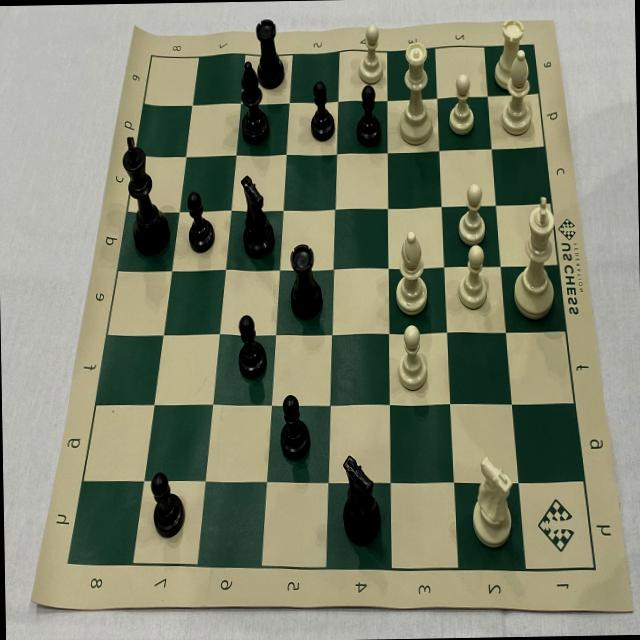black-bishop: (236, 55, 270, 147)
black-king: (118, 126, 173, 262)
black-knight: (336, 444, 382, 550), (234, 165, 278, 264)
black-pawn: (272, 387, 314, 468), (147, 460, 187, 540), (233, 302, 270, 384), (182, 182, 220, 257), (303, 77, 340, 146), (353, 80, 387, 148)
black-rook: (282, 229, 330, 330), (249, 9, 290, 93)
white-bishop: (388, 222, 434, 322), (494, 40, 536, 144)
white-king: (506, 191, 568, 324)
white-knight: (464, 450, 520, 554)
white-pawn: (391, 316, 434, 396), (454, 240, 493, 316), (442, 66, 479, 140), (352, 17, 390, 88), (456, 176, 489, 248)
white-queen: (392, 32, 436, 150)
white-rook: (488, 12, 530, 94)
